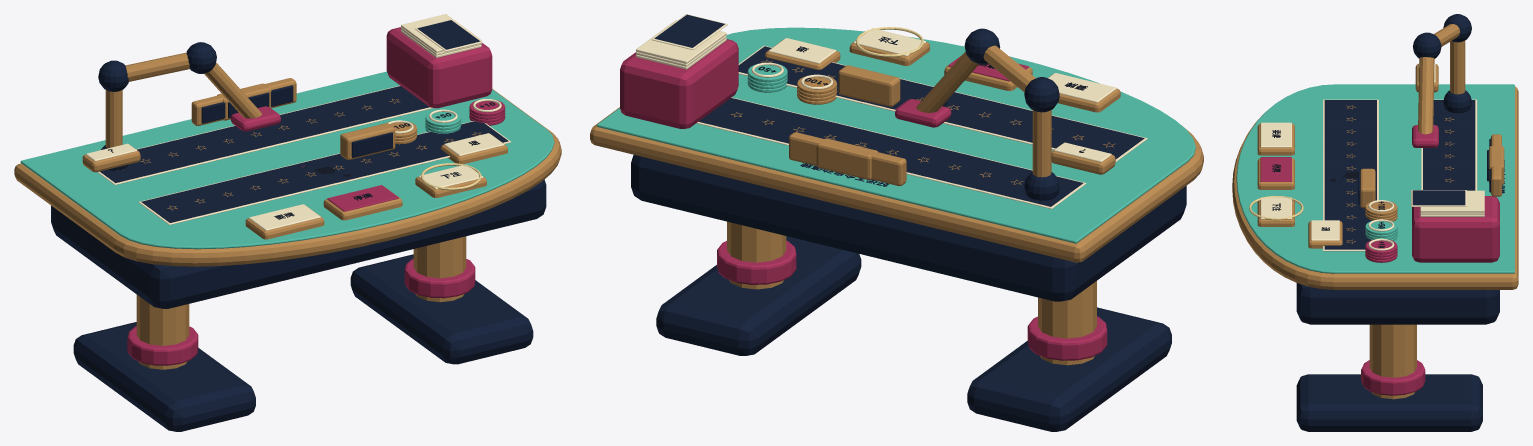
Rendered from S1Blackjack.fbx.
3 renders of one model, left to right at view 1: azimuth 30°, elevation 25°; view 2: azimuth 150°, elevation 25°; view 3: azimuth 270°, elevation 25°, orthographic. The views are drawn at different scales.
Parts seen in each view (by area): view 1: S1Blackjack.Mesh, Blackjack.CardShoe.Mesh, Blackjack.DealerArmPivot.Mesh, Blackjack.HitTile.Mesh, Blackjack.StandTile.Mesh, StatePlaque.001.Mesh, Blackjack.PlayerTotal.Mesh, Blackjack.BetCircle.Mesh, Blackjack.ClearPlate.Mesh, Blackjack.DrawCard.Mesh, Blackjack.PlayerCard11.Mesh, Blackjack.RulePlate.Mesh (+25 smaller); view 2: S1Blackjack.Mesh, Blackjack.CardShoe.Mesh, Blackjack.DealerArmPivot.Mesh, StatePlaque.001.Mesh, Blackjack.PlayerTotal.Mesh, Blackjack.BetCircle.Mesh, Blackjack.HitTile.Mesh, Blackjack.DealerTotal.Mesh, Blackjack.DrawCard.Mesh, Blackjack.ClearPlate.Mesh, Blackjack.RulePlate.Mesh, Blackjack.DealerCard2.Mesh (+19 smaller); view 3: S1Blackjack.Mesh, Blackjack.CardShoe.Mesh, Blackjack.DealerArmPivot.Mesh, Blackjack.HitTile.Mesh, Blackjack.StandTile.Mesh, Blackjack.BetCircle.Mesh, Blackjack.DrawCard.Mesh, Blackjack.ClearPlate.Mesh, Blackjack.PlayerCard11.Mesh, Blackjack.DealerCard5.Mesh, Blackjack.DealerCard7.Mesh, Blackjack.PlayerCard8.Mesh (+21 smaller).
Part boxes in pixels (x1,y1,x2,y2): S1Blackjack.Mesh: (14, 71, 561, 431); Blackjack.CardShoe.Mesh: (386, 14, 492, 108); Blackjack.DealerArmPivot.Mesh: (98, 42, 280, 170); Blackjack.HitTile.Mesh: (245, 204, 324, 239); Blackjack.StandTile.Mesh: (323, 185, 402, 220); StatePlaque.001.Mesh: (191, 78, 296, 125); Blackjack.PlayerTotal.Mesh: (340, 123, 395, 159); Blackjack.BetCircle.Mesh: (415, 164, 486, 197); Blackjack.ClearPlate.Mesh: (440, 133, 507, 164); Blackjack.DrawCard.Mesh: (415, 19, 482, 51); Blackjack.PlayerCard11.Mesh: (138, 193, 206, 224); Blackjack.RulePlate.Mesh: (82, 143, 140, 172); S1Blackjack.Mesh: (590, 27, 1203, 431); Blackjack.CardShoe.Mesh: (620, 20, 738, 128); Blackjack.DealerArmPivot.Mesh: (895, 28, 1059, 200); StatePlaque.001.Mesh: (789, 132, 906, 186); Blackjack.PlayerTotal.Mesh: (838, 65, 900, 106); Blackjack.BetCircle.Mesh: (849, 28, 929, 65); Blackjack.HitTile.Mesh: (1048, 73, 1120, 112); Blackjack.DealerTotal.Mesh: (816, 138, 877, 179); Blackjack.DrawCard.Mesh: (651, 14, 727, 49); Blackjack.ClearPlate.Mesh: (765, 38, 840, 69); Blackjack.RulePlate.Mesh: (1051, 142, 1115, 174); Blackjack.DealerCard2.Mesh: (730, 105, 795, 141); S1Blackjack.Mesh: (1232, 84, 1518, 431); Blackjack.CardShoe.Mesh: (1412, 190, 1499, 262); Blackjack.DealerArmPivot.Mesh: (1412, 14, 1471, 147); Blackjack.HitTile.Mesh: (1257, 122, 1294, 155); Blackjack.StandTile.Mesh: (1257, 157, 1294, 189); Blackjack.BetCircle.Mesh: (1257, 197, 1294, 226); Blackjack.DrawCard.Mesh: (1411, 190, 1466, 206); Blackjack.ClearPlate.Mesh: (1308, 220, 1342, 248); Blackjack.PlayerCard11.Mesh: (1323, 99, 1378, 115); Blackjack.DealerCard5.Mesh: (1421, 176, 1477, 189); Blackjack.DealerCard7.Mesh: (1421, 151, 1477, 164); Blackjack.PlayerCard8.Mesh: (1323, 139, 1378, 152).
Bounding box in the file's own units: 270 × 186 × 169.
